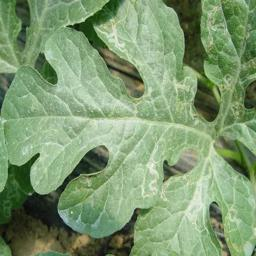liriomyza: (202, 3, 223, 50), (139, 153, 158, 199), (105, 16, 127, 53), (215, 74, 237, 93)
